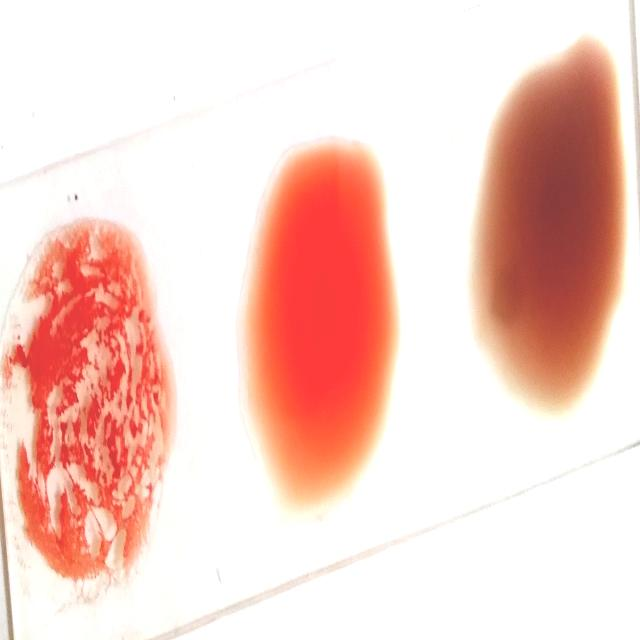D: (9, 210, 166, 598)
